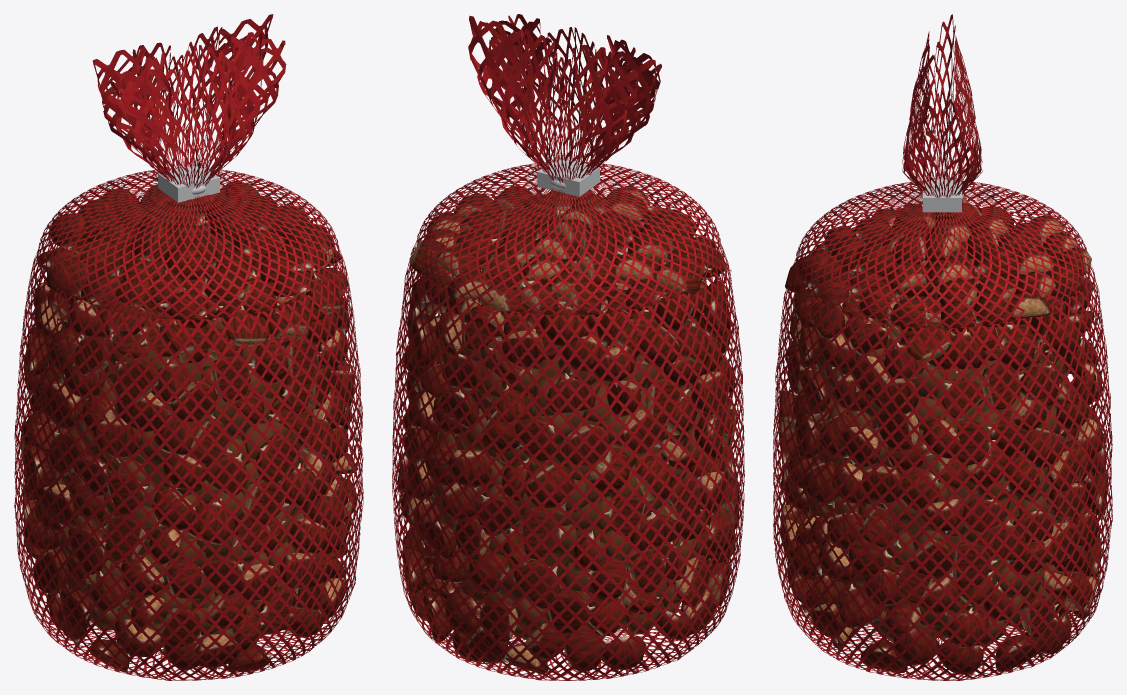
File: paket-5kg.glb
3 renders of one model, left to right at view 1: azimuth 30°, elevation 25°; view 2: azimuth 150°, elevation 25°; view 3: azimuth 270°, elevation 25°, orthographic. The views are drawn at different scales.
Visible parts, largest first — view 1: File ağı, shell, kestane-ic-kat, malzeme-3, kestane-cekirdek; view 2: File ağı, shell, kestane-ic-kat, malzeme-3, kestane-cekirdek; view 3: File ağı, shell, kestane-ic-kat, kestane-cekirdek, malzeme-3.
Boxes of the visible parts, x1,y1,x2,y2 form: File ağı: (14,14,363,680); shell: (21,181,358,672); kestane-ic-kat: (51,295,318,647); malzeme-3: (158,164,219,202); kestane-cekirdek: (91,337,298,633); File ağı: (392,14,744,680); shell: (397,186,739,674); kestane-ic-kat: (431,305,704,639); malzeme-3: (537,157,599,196); kestane-cekirdek: (471,353,683,629); File ağı: (773,14,1112,680); shell: (778,196,1107,674); kestane-ic-kat: (808,287,1072,646); kestane-cekirdek: (840,296,1053,638); malzeme-3: (920,178,963,212).
Bounding box in the file's own units: 0.2169 × 0.4068 × 0.2164.
5 materials, 2 textured.
